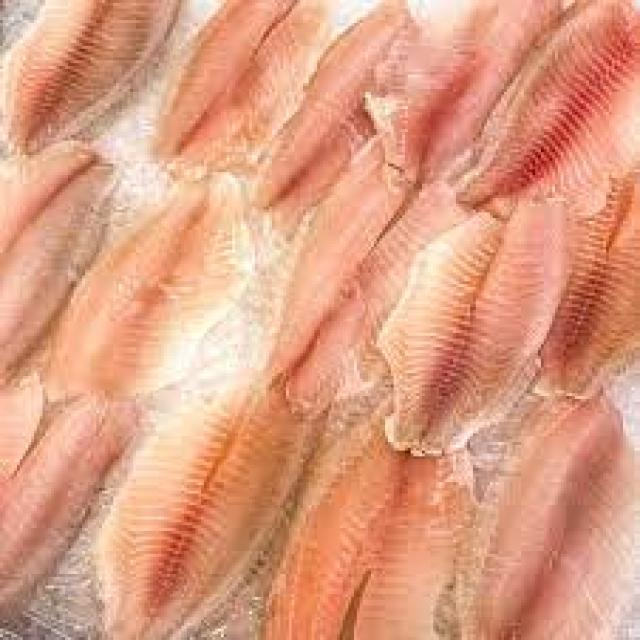Fish: (110, 365, 298, 632), (272, 407, 480, 640), (47, 169, 255, 386), (386, 204, 551, 459), (481, 404, 639, 640), (273, 154, 416, 412), (452, 8, 637, 194), (149, 0, 321, 163), (7, 391, 130, 606), (6, 0, 161, 150)
